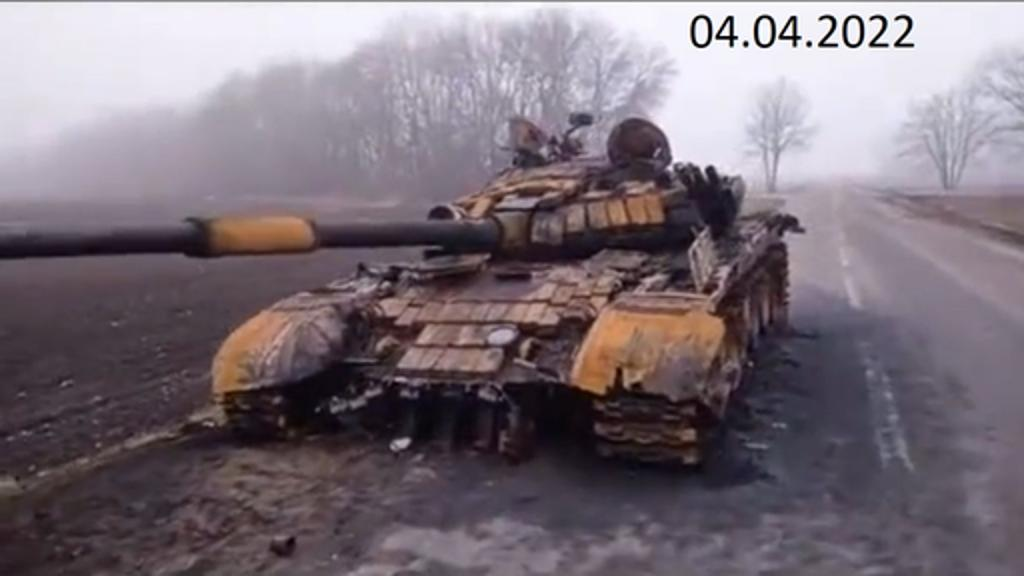TANK: (0, 110, 800, 476)
